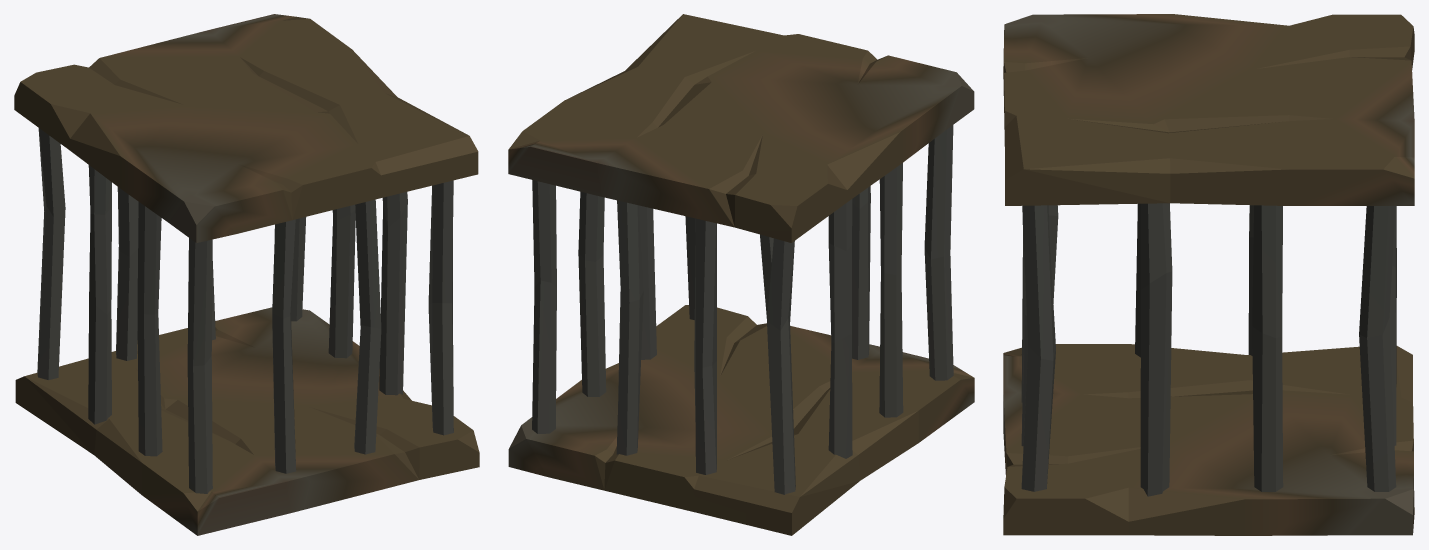
The model's file is cage.glb.
The picture shows the model from 3 angles, left to right: view 1: azimuth 30°, elevation 25°; view 2: azimuth 150°, elevation 25°; view 3: azimuth 270°, elevation 25°; orthographic projection. The views are drawn at different scales.
Visible parts, largest first — view 1: SM_Prop_Cage_01; view 2: SM_Prop_Cage_01; view 3: SM_Prop_Cage_01.
Part boxes in pixels (left/top/right/bottom): SM_Prop_Cage_01: left=14, top=14, right=479, bottom=535; SM_Prop_Cage_01: left=508, top=14, right=974, bottom=535; SM_Prop_Cage_01: left=1003, top=14, right=1414, bottom=535.
Bounding box in the file's own units: 0.9898 × 1.08 × 1.1.
Materials: 1 (1 with a texture image).
